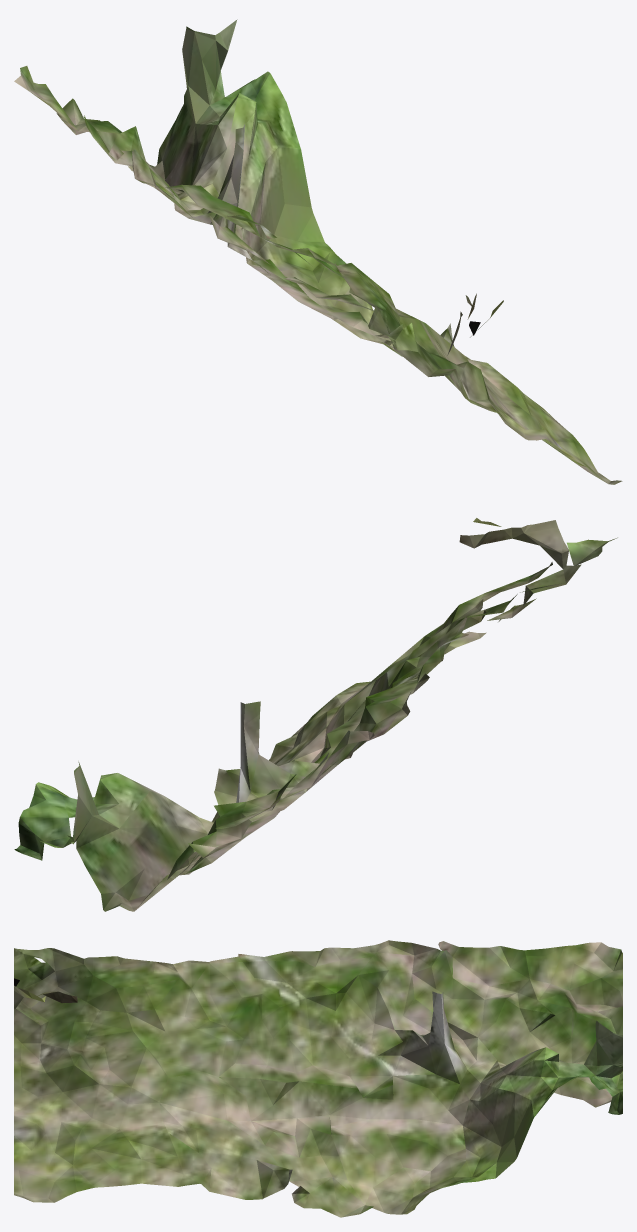
3 views of the same model, one above another, from view 1: azimuth 30°, elevation 25°; view 2: azimuth 150°, elevation 25°; view 3: azimuth 270°, elevation 25° (orthographic). The views are drawn at different scales.
Bounding box in the file's own units: 10.02 × 8.45 × 26.11.
Materials: 2 (2 with a texture image).
